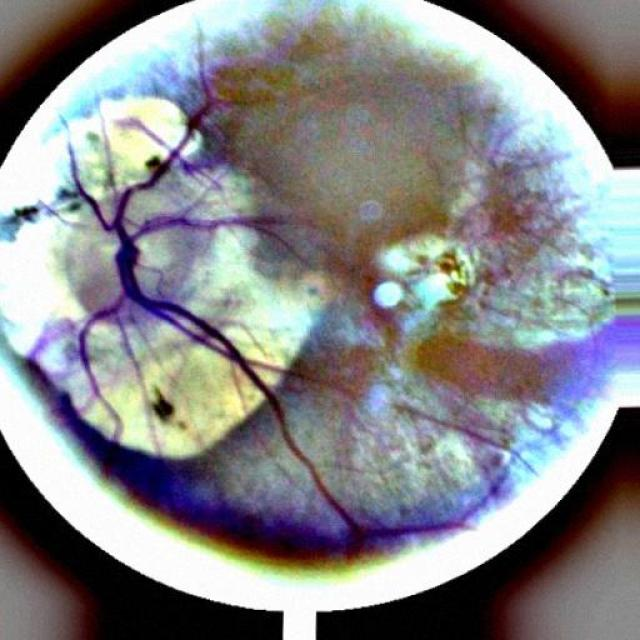Nerves: (114, 190, 161, 316), (165, 302, 209, 329)
